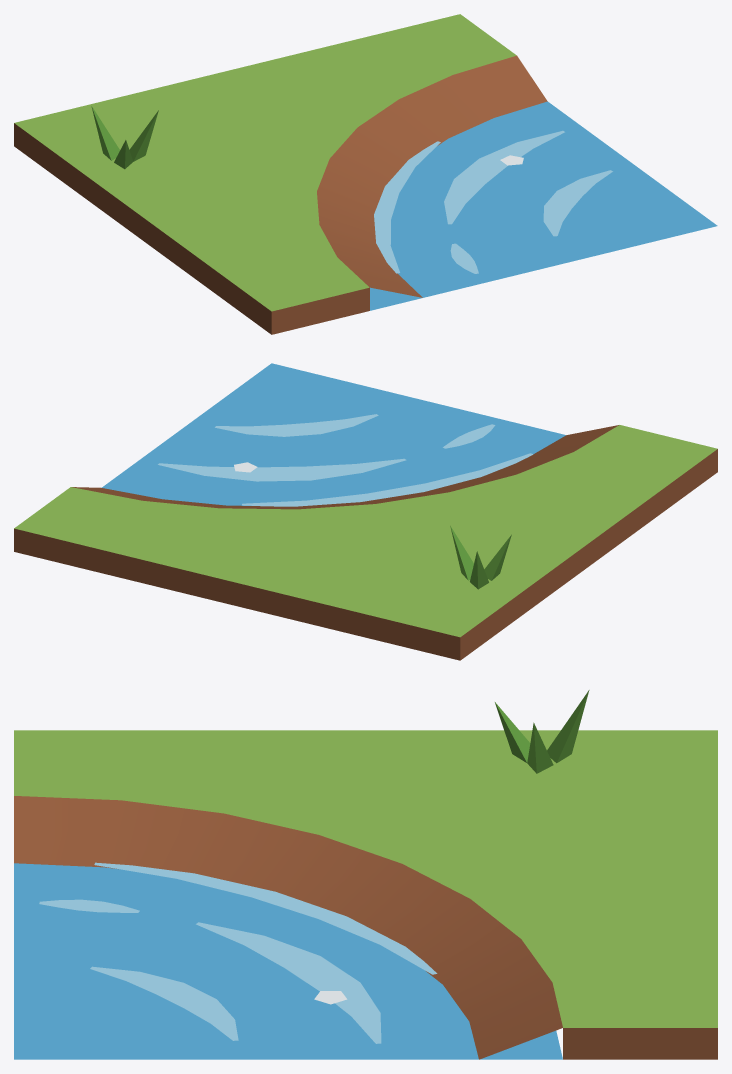
Rendered from water_river_curve.glb.
3 views of the same model, one above another, from view 1: azimuth 30°, elevation 25°; view 2: azimuth 150°, elevation 25°; view 3: azimuth 270°, elevation 25° (orthographic). The views are drawn at different scales.
Parts seen in each view (by area): view 1: water_river_curve; view 2: water_river_curve; view 3: water_river_curve.
Boxes of the visible parts, x1,y1,x2,y2 form: water_river_curve: (14,14,717,334); water_river_curve: (14,363,717,660); water_river_curve: (14,690,717,1059).
Bounding box in the file's own units: 1 × 0.1461 × 1.
Materials: 1 (1 with a texture image).
